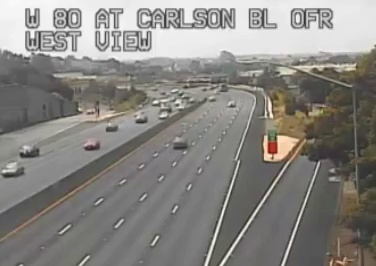car: (173, 137, 187, 149)
